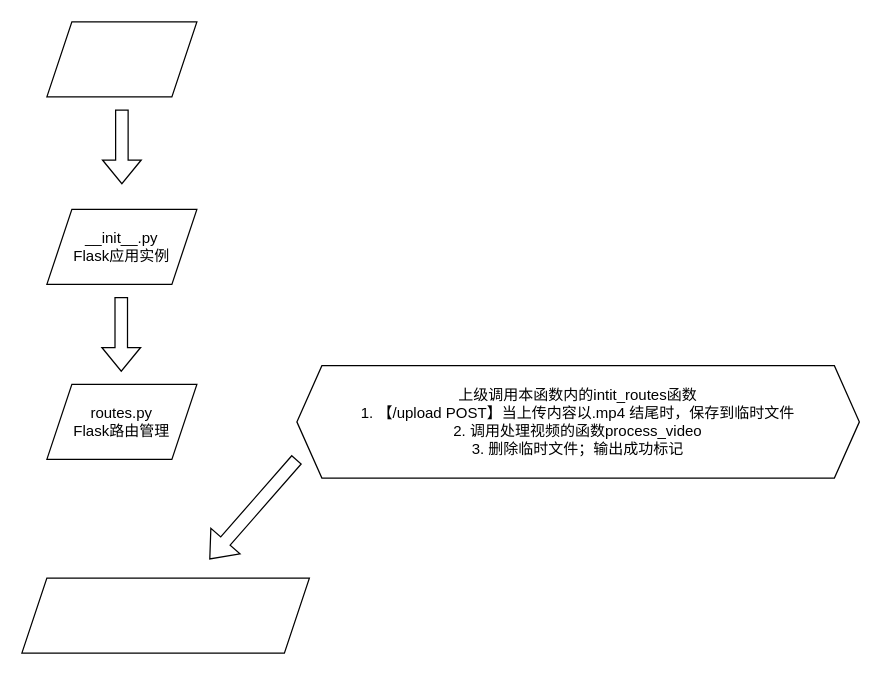
This 881x675 diagram has some shape labels left out. The centre of each missing label's shape, as x and y in pixels:
"run.py 启动服务端" goes at point (121, 59).
"video_processor.py 图像处理脚本" goes at point (165, 615).
